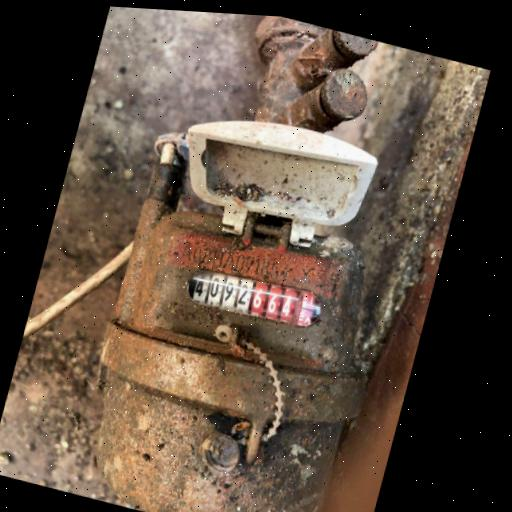0: (204, 271, 225, 308)
1: (294, 289, 321, 330)
2: (231, 276, 255, 316)
4: (275, 286, 301, 325), (189, 268, 213, 306)
6: (260, 281, 285, 321), (246, 280, 269, 318)
9: (218, 274, 240, 311)
border_water_meter_number: (181, 260, 328, 336)
